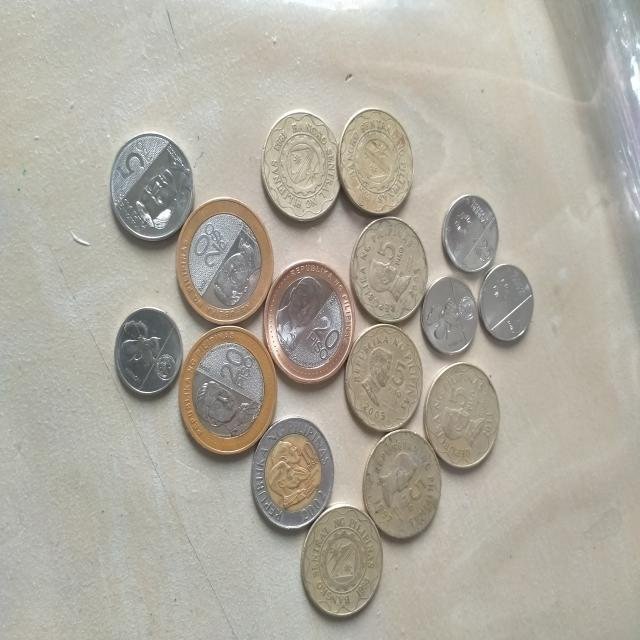10_Old_Front: (292, 435, 324, 479)
20_New_Front: (302, 310, 344, 364), (192, 218, 230, 272), (211, 345, 255, 391)
5_New_Front: (114, 138, 158, 185)
5_Old_Front: (386, 346, 411, 398)
